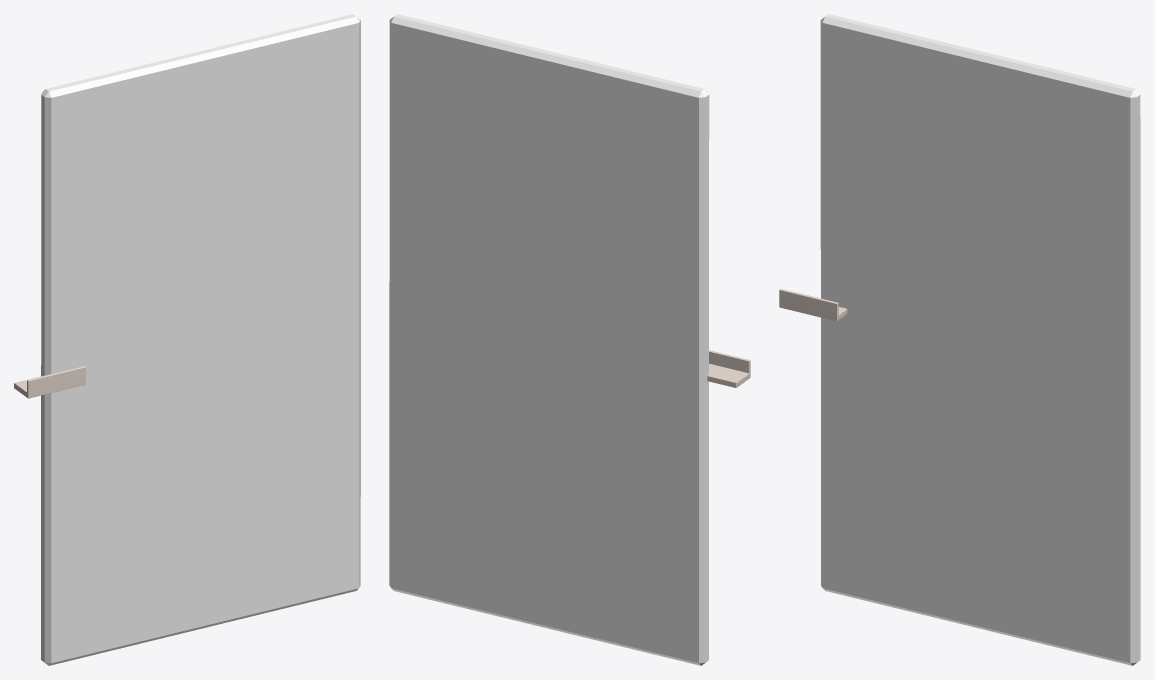
File: Cabinet_9f5ebc57.obj
The picture shows the model from 3 angles, left to right: view 1: azimuth 30°, elevation 25°; view 2: azimuth 150°, elevation 25°; view 3: azimuth 330°, elevation 25°; orthographic projection.
Visible parts, largest first — view 1: FP422:Door3_11c49846, handle_3_76mm_01_62c68ba0; view 2: FP422:Door3_11c49846, handle_3_76mm_01_62c68ba0; view 3: FP422:Door3_11c49846, handle_3_76mm_01_62c68ba0.
Part boxes in pixels (x1,y1,x2,y2): FP422:Door3_11c49846: (41, 14, 360, 665); handle_3_76mm_01_62c68ba0: (14, 366, 85, 398); FP422:Door3_11c49846: (389, 14, 709, 665); handle_3_76mm_01_62c68ba0: (707, 350, 750, 387); FP422:Door3_11c49846: (820, 14, 1140, 665); handle_3_76mm_01_62c68ba0: (779, 289, 847, 321).
Size of the model in its own units: 0.4526 by 0.7198 by 0.0423.
